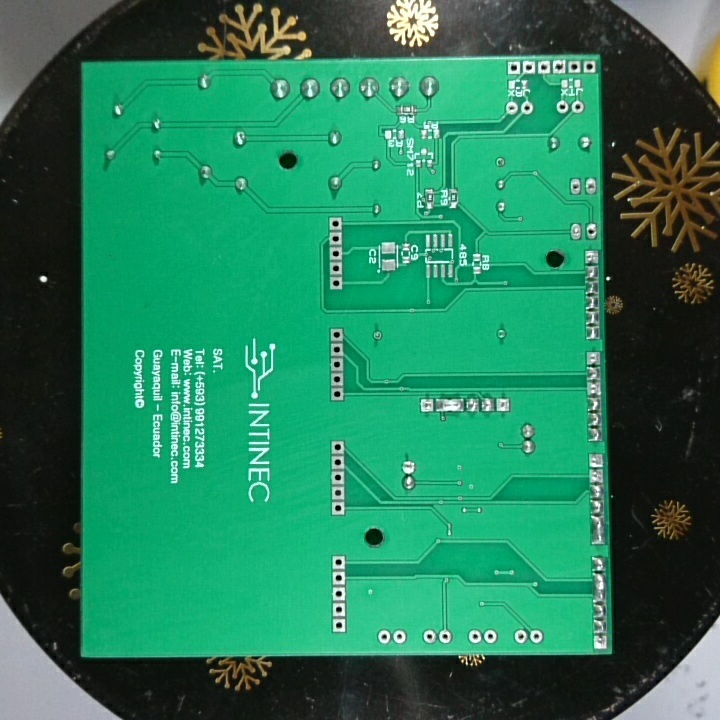F: (399, 459, 421, 475), (326, 228, 345, 246), (327, 260, 347, 277), (327, 275, 347, 292), (467, 626, 482, 648), (493, 157, 511, 175), (483, 627, 500, 646), (327, 245, 347, 261), (555, 96, 570, 117), (326, 215, 344, 232), (418, 397, 436, 414), (513, 627, 528, 647), (582, 58, 596, 79), (330, 618, 347, 635), (584, 349, 601, 366), (330, 500, 348, 516), (571, 97, 587, 115), (585, 177, 598, 199), (329, 440, 348, 455), (529, 627, 544, 646), (568, 178, 582, 198), (370, 328, 383, 349), (330, 470, 347, 486), (391, 628, 407, 645), (588, 468, 605, 484), (587, 452, 604, 468), (495, 396, 511, 413), (329, 328, 347, 343), (332, 569, 347, 587), (377, 628, 392, 646), (522, 60, 537, 78), (569, 220, 581, 242), (330, 386, 345, 403), (331, 586, 346, 603), (438, 629, 453, 646), (329, 343, 345, 358), (330, 455, 346, 470), (331, 555, 347, 570), (331, 603, 347, 618), (593, 634, 608, 650), (583, 250, 599, 265), (507, 59, 522, 75), (536, 61, 552, 76), (551, 60, 567, 75), (330, 355, 344, 372), (423, 628, 436, 646), (584, 221, 596, 240), (505, 101, 520, 116), (329, 372, 345, 386), (569, 59, 581, 77), (331, 486, 346, 500), (587, 380, 601, 395), (521, 100, 532, 117)
P: (590, 515, 606, 547), (591, 576, 610, 601), (436, 397, 464, 413)
